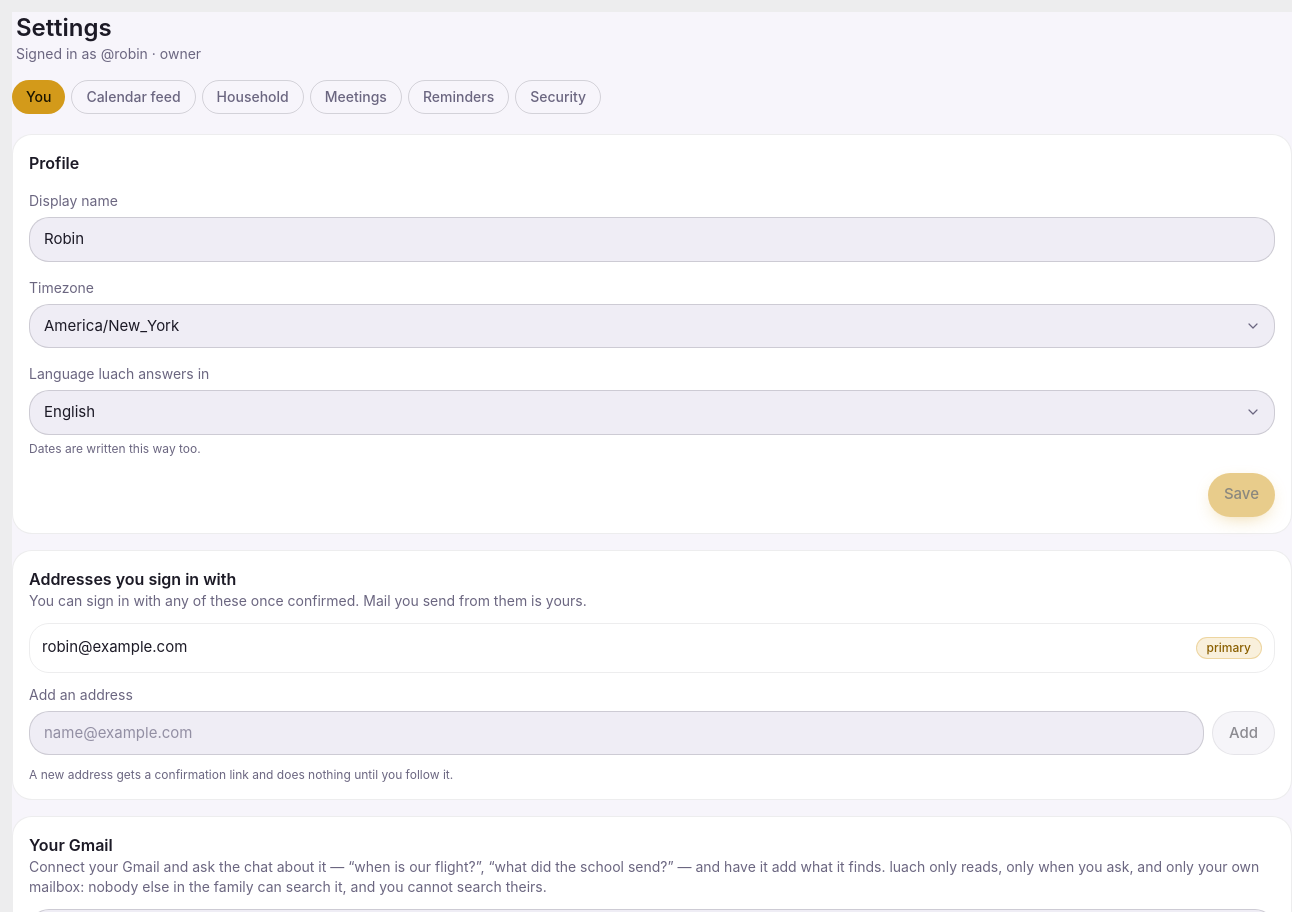
everything a member can set › shows the booking link before it is live, because that is how you decide
Click the tab "Meetings": (356, 97) 310,80 -> 402,114
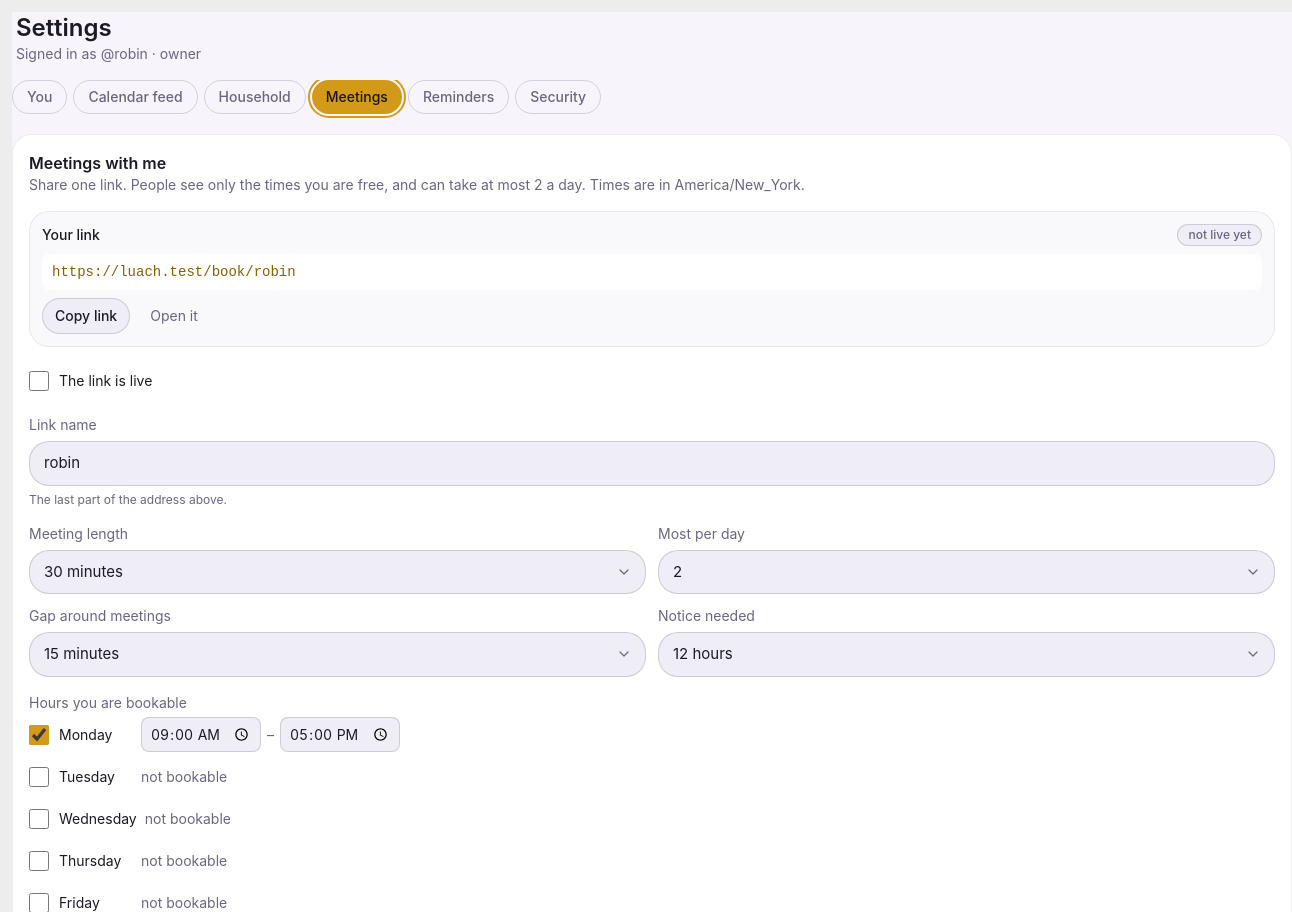
expect the text "https://luach.test/book/robin" is shown: met, box 42,254 -> 1262,290
expect the text "not live yet" is shown: met, box 1178,224 -> 1262,246
expect the button "Copy link" is shown: met, box 42,298 -> 130,334
